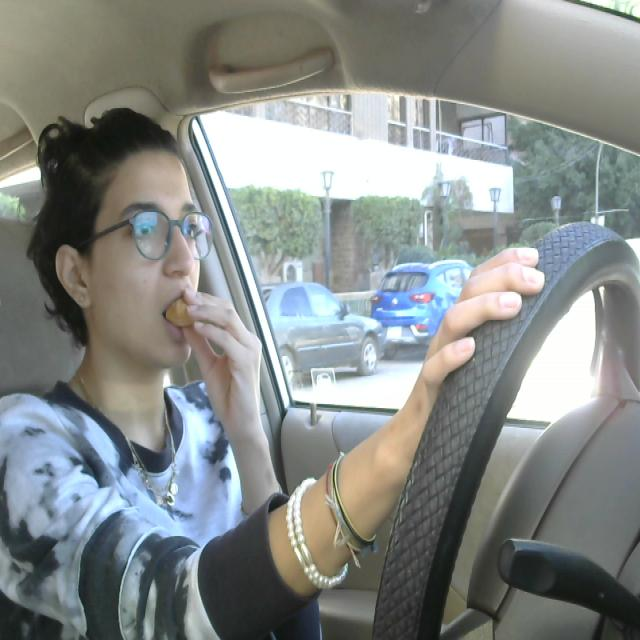eating: (161, 288, 207, 333)
